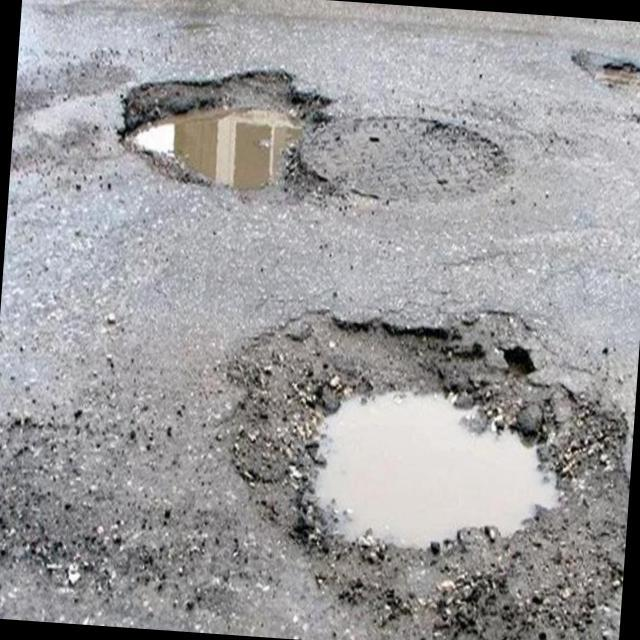Pothole: (234, 321, 620, 620), (122, 72, 331, 208)
